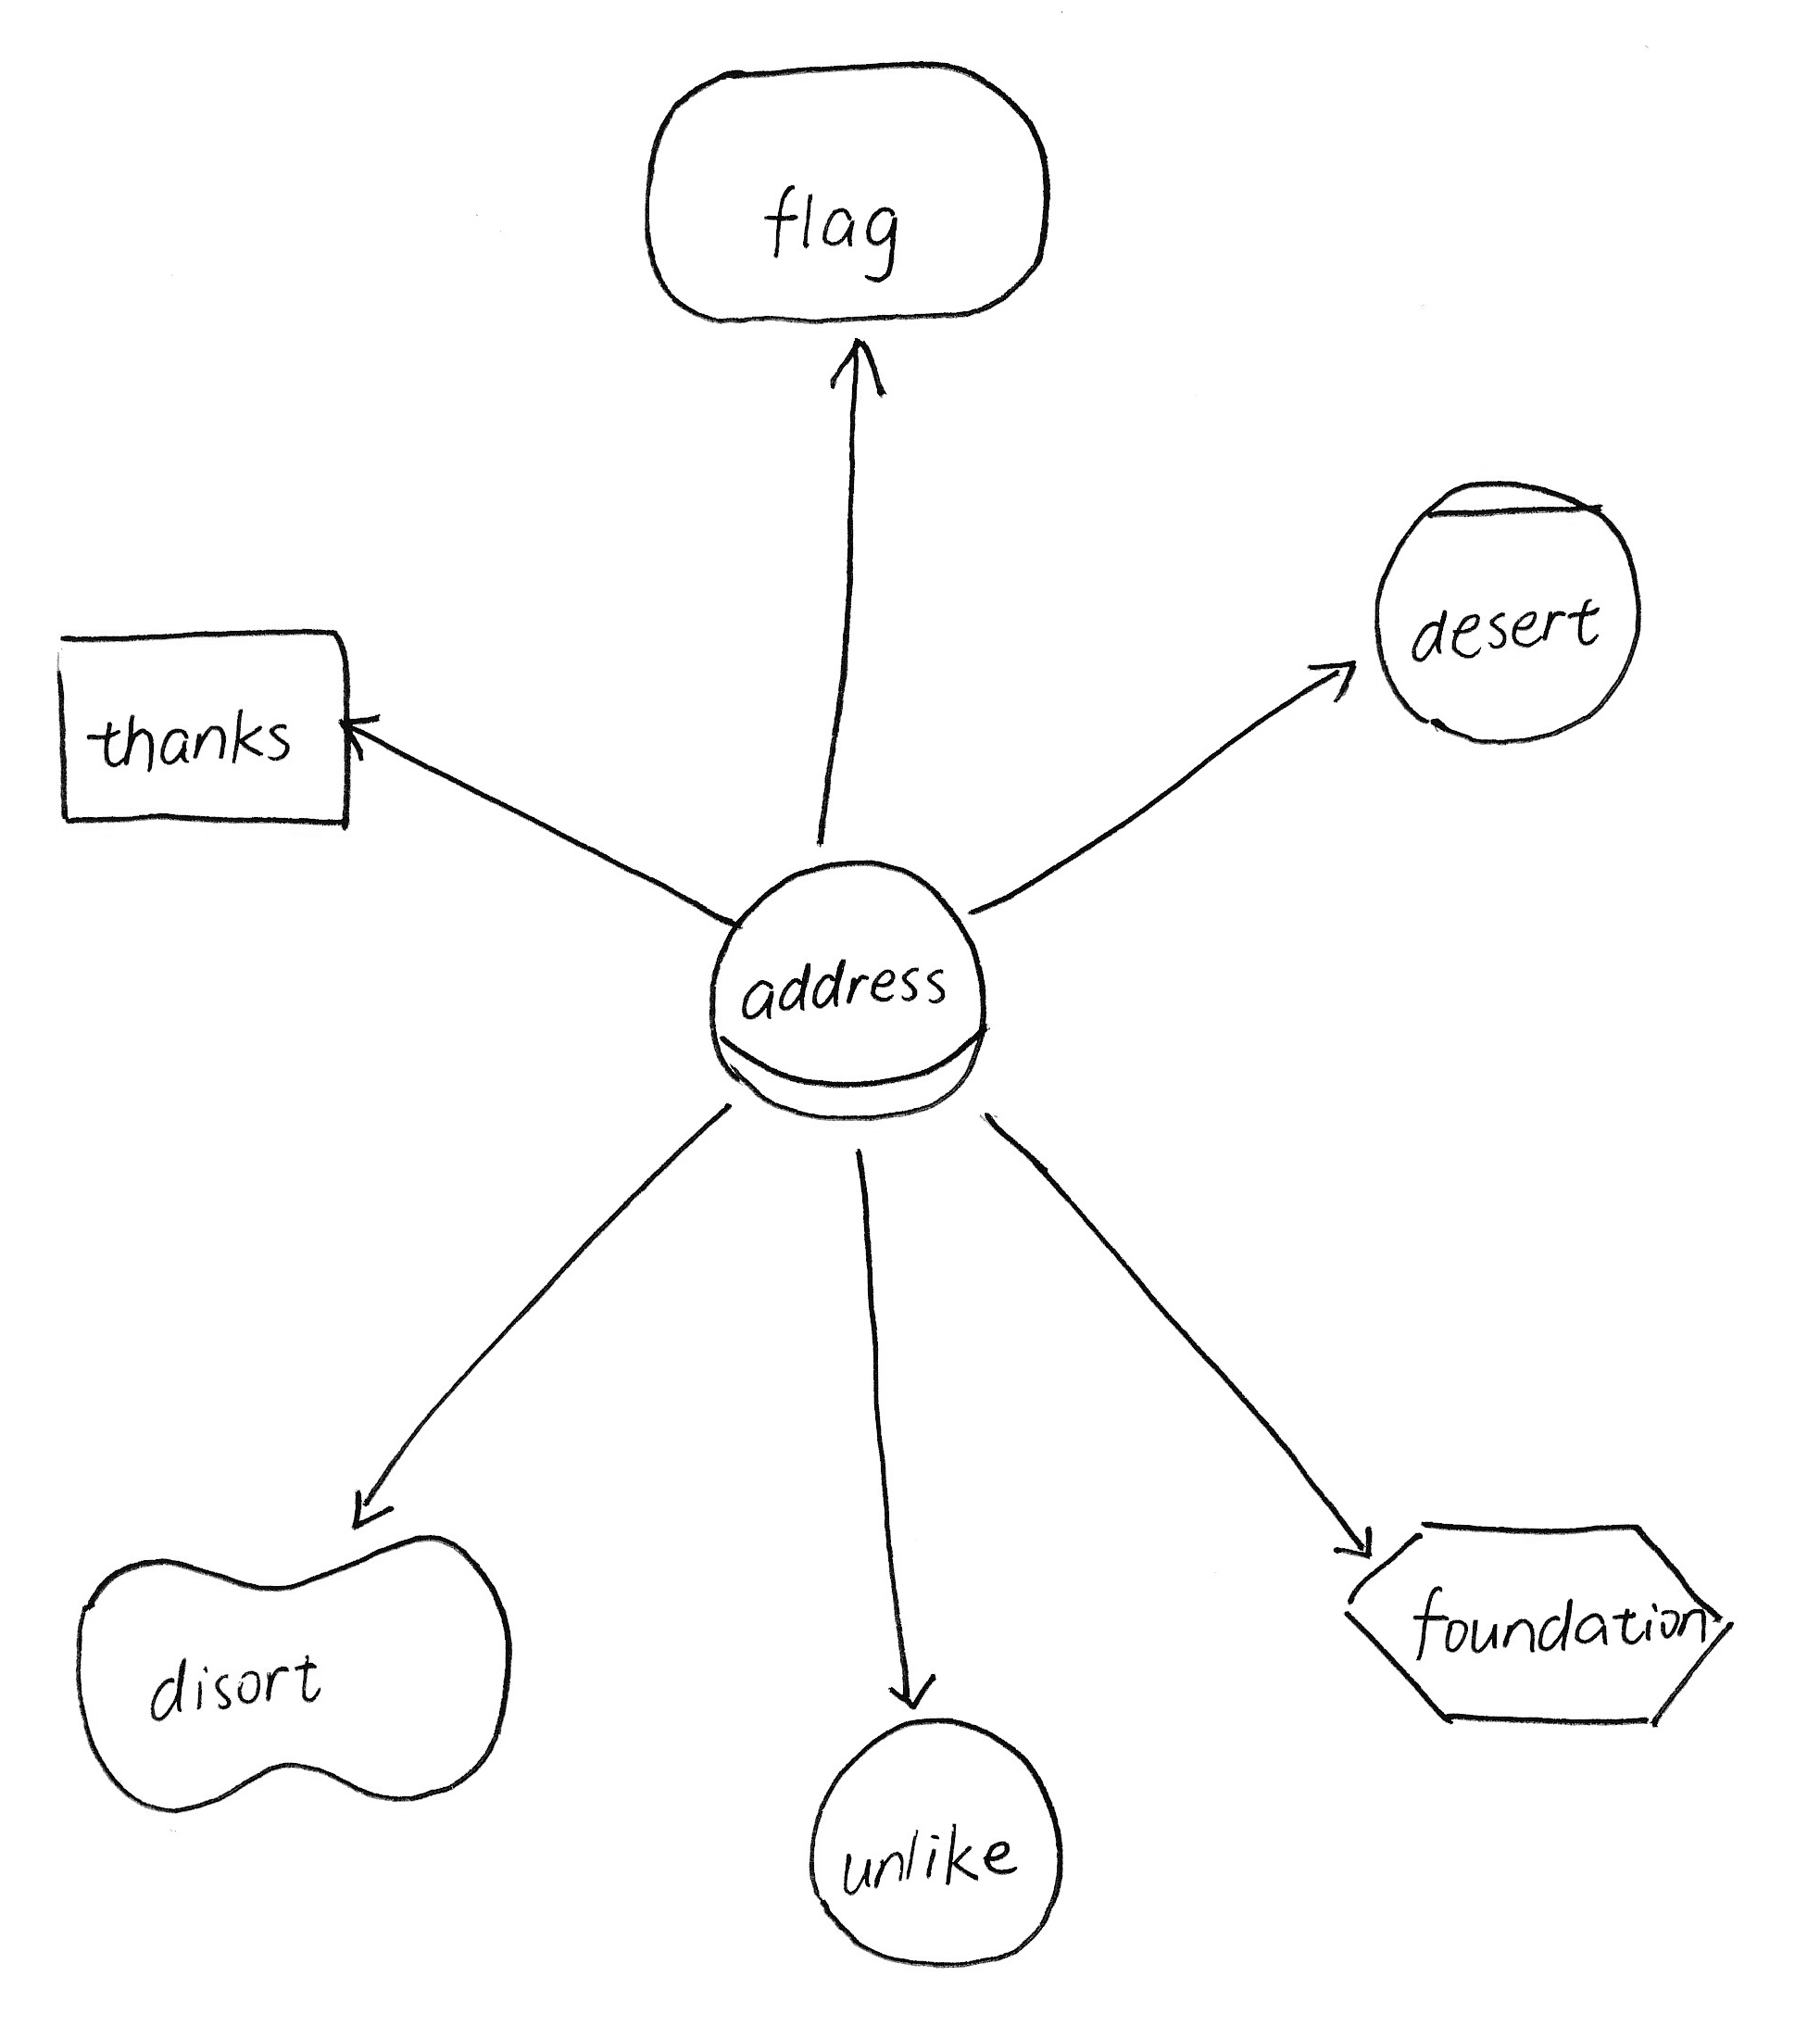actor: (792, 1699, 1087, 1992)
agent: (1354, 462, 1657, 759)
arrow: (812, 328, 906, 406), (327, 1467, 409, 1547), (1319, 1498, 1402, 1574), (870, 1651, 957, 1721), (1300, 634, 1367, 720), (325, 694, 401, 766)
goal: (620, 44, 1080, 350)
quality: (58, 1509, 539, 1830)
resource: (37, 608, 379, 843)
role: (692, 840, 1007, 1143)
task: (1328, 1491, 1755, 1746)
